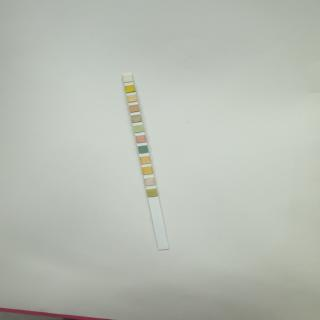mark: (130, 104, 140, 112), (123, 74, 133, 82), (141, 156, 150, 164), (147, 189, 157, 196), (136, 136, 146, 143), (134, 125, 144, 132), (127, 95, 137, 102), (125, 85, 135, 92), (146, 178, 154, 186), (143, 167, 152, 174), (139, 146, 148, 153), (132, 115, 141, 122)
